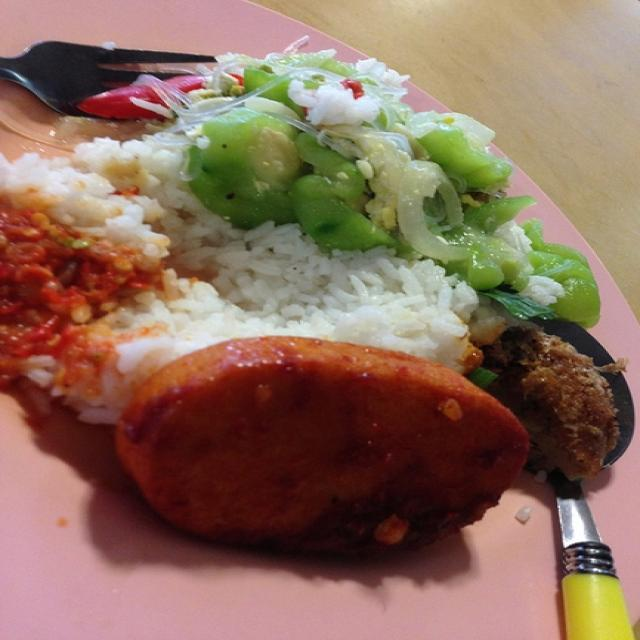米饭主食: (6, 21, 624, 616)
